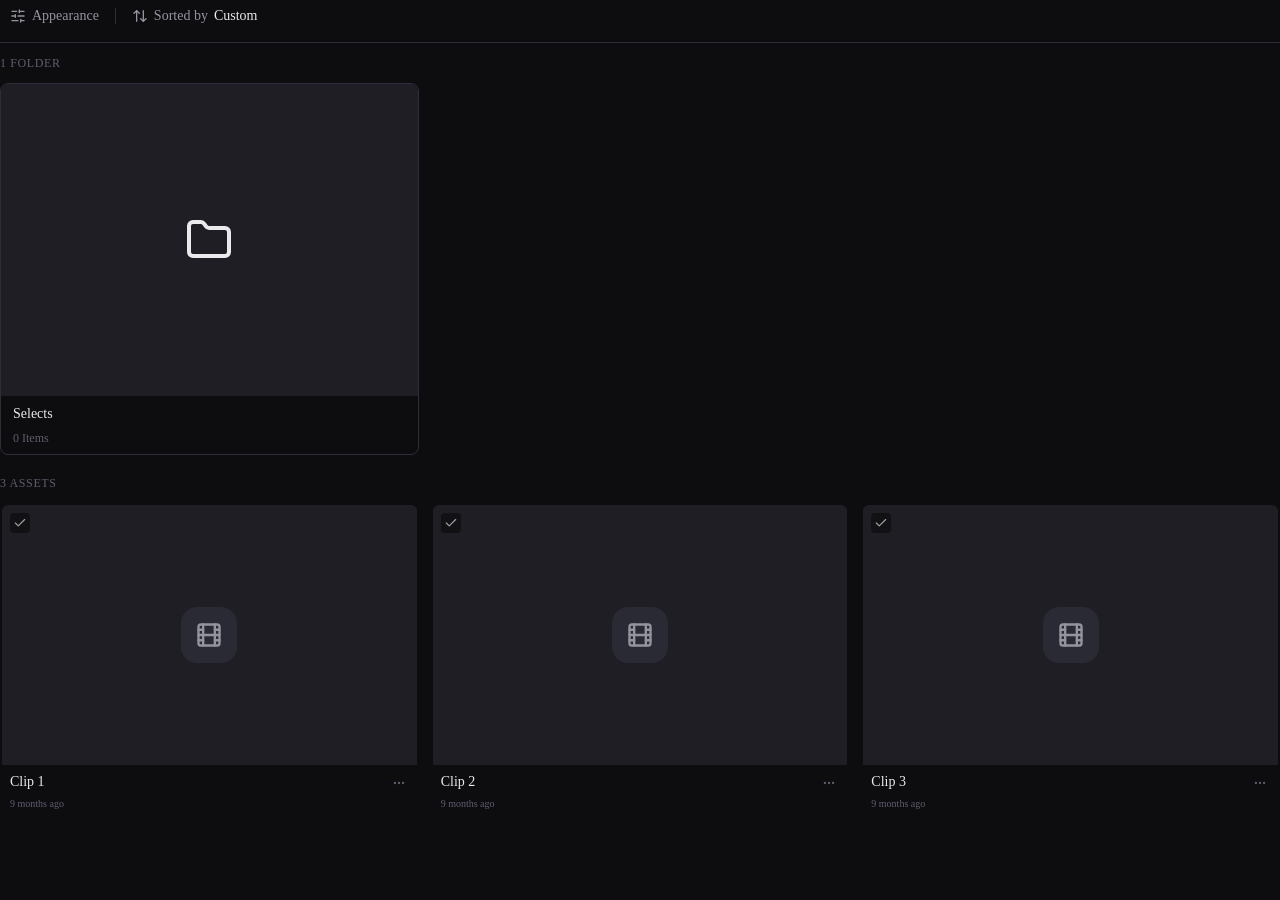
Scenario: AssetGrid right-click (grid view) › an item outside the selection gets its own menu
Click the text "Clip 1".
click(27, 781)  # box x1=10 y1=773 x2=45 y2=790
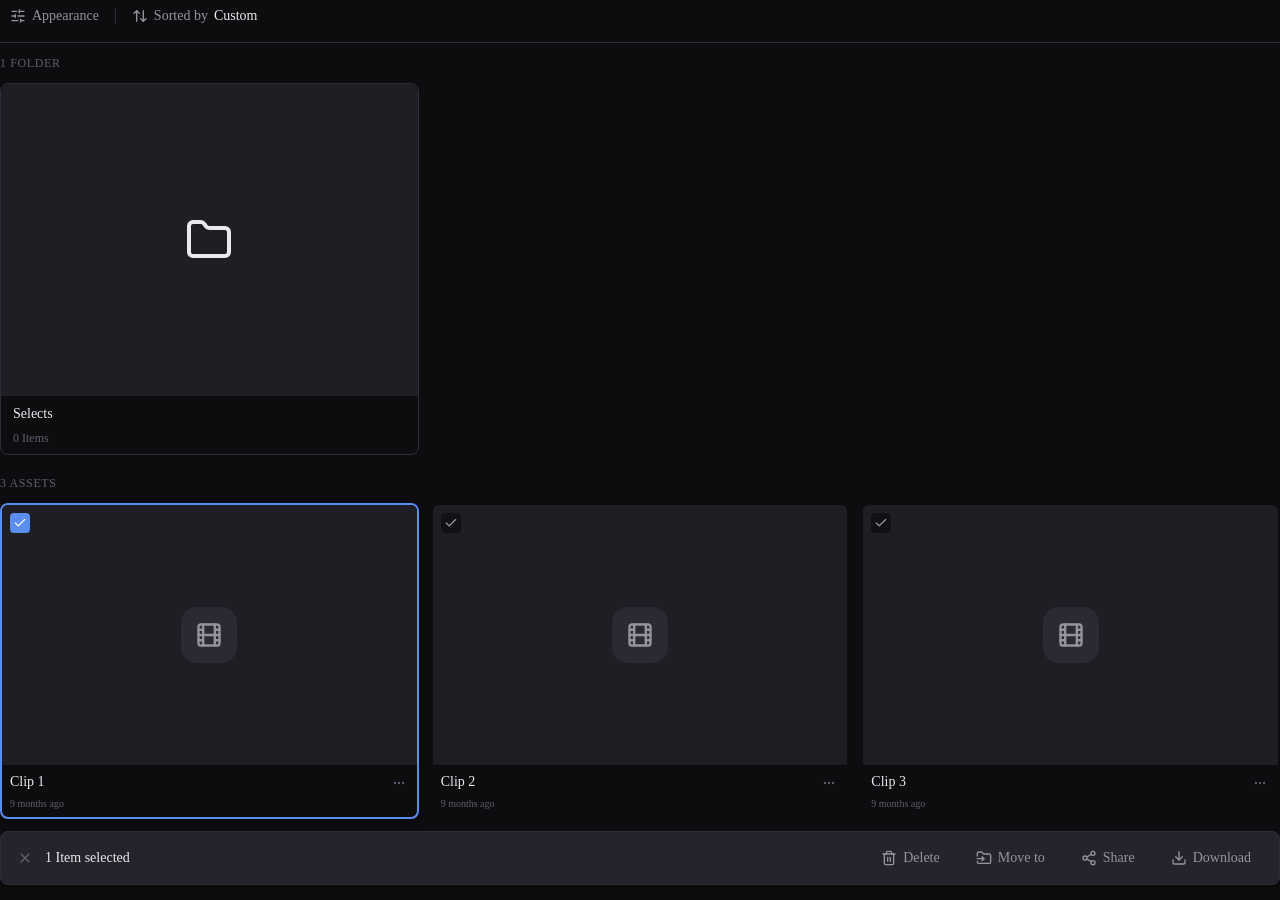
Click the text "Clip 3".
click(889, 781)  # box x1=871 y1=773 x2=906 y2=790
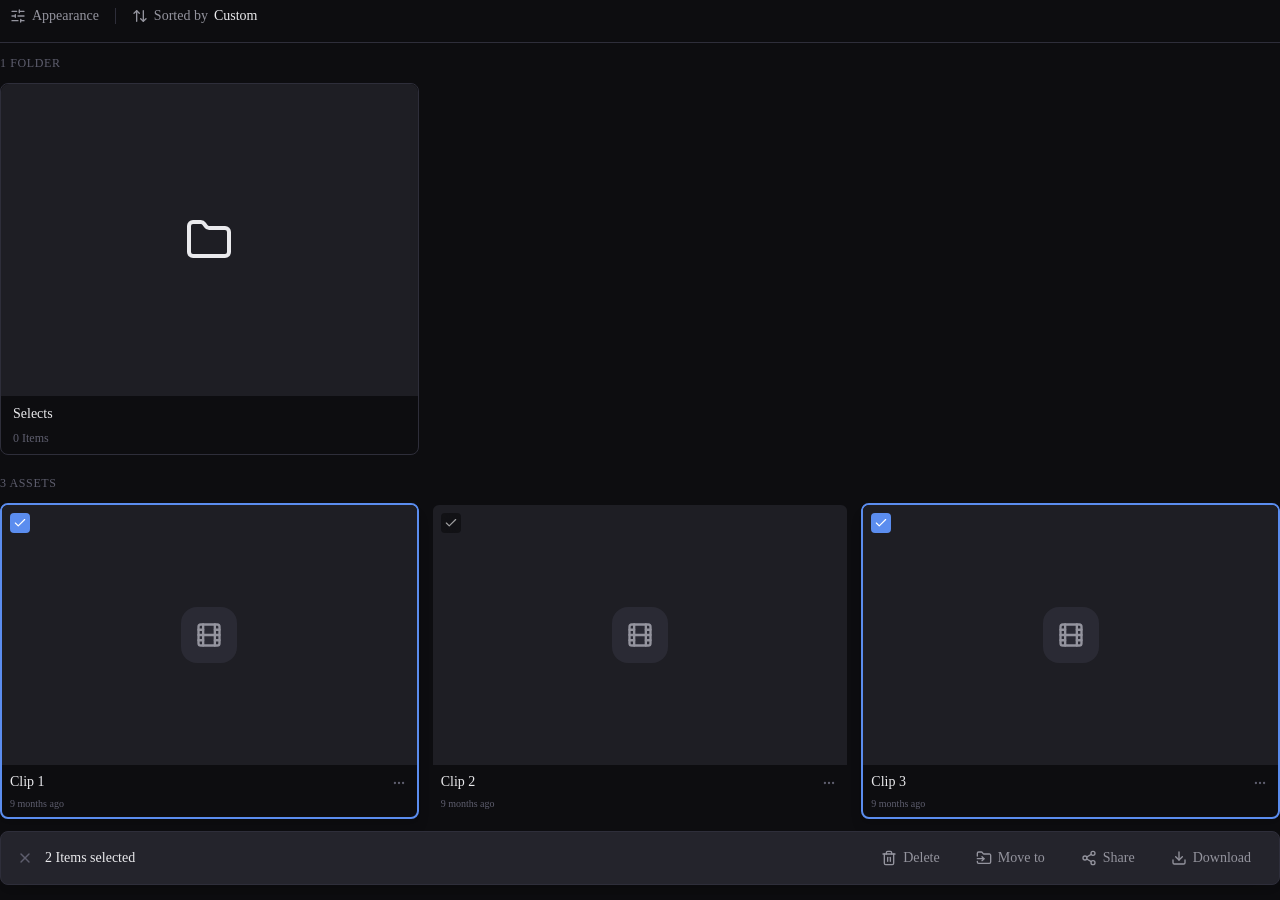
Right-click the text "Clip 2".
right_click(458, 781)  # box x1=441 y1=773 x2=475 y2=790
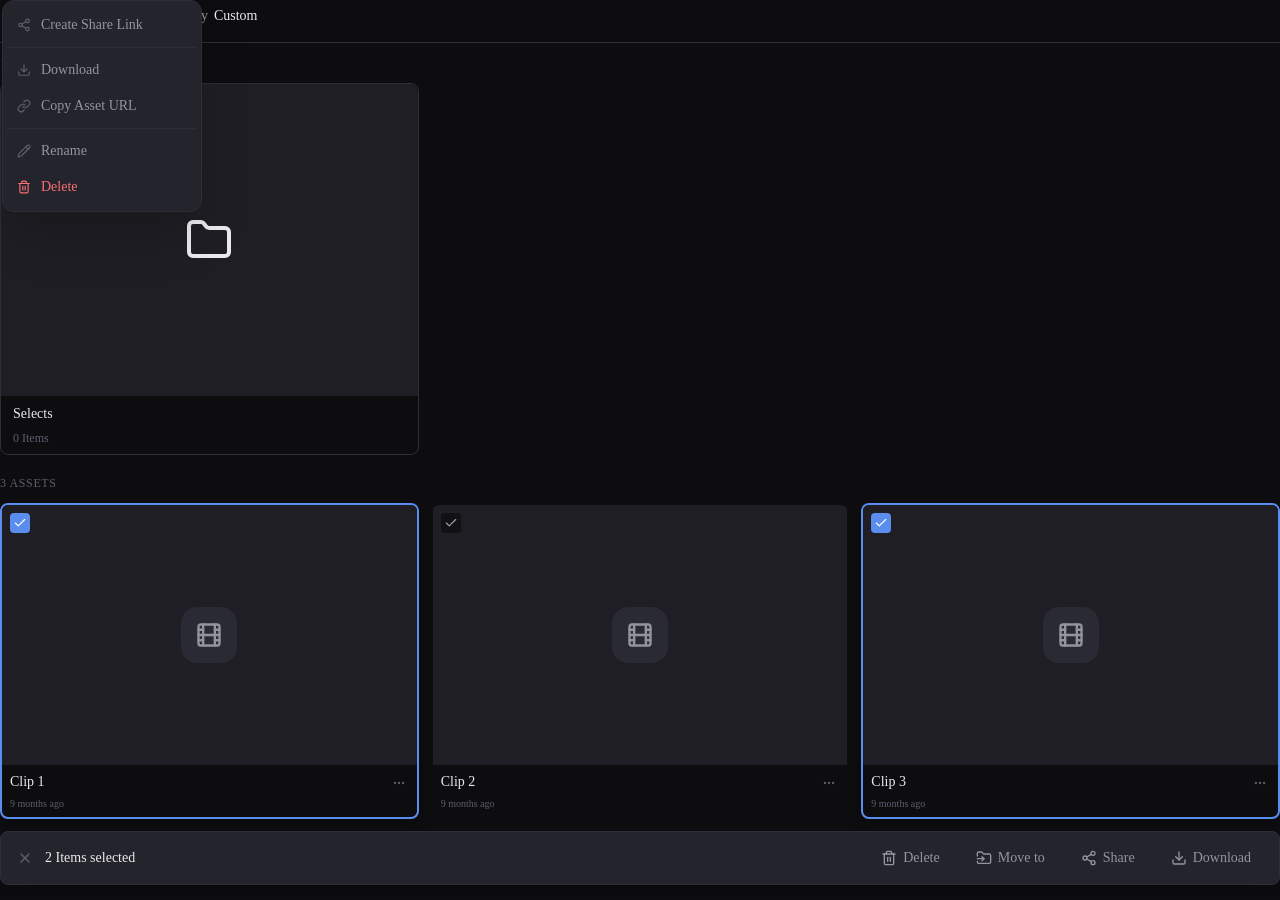
Press Escape
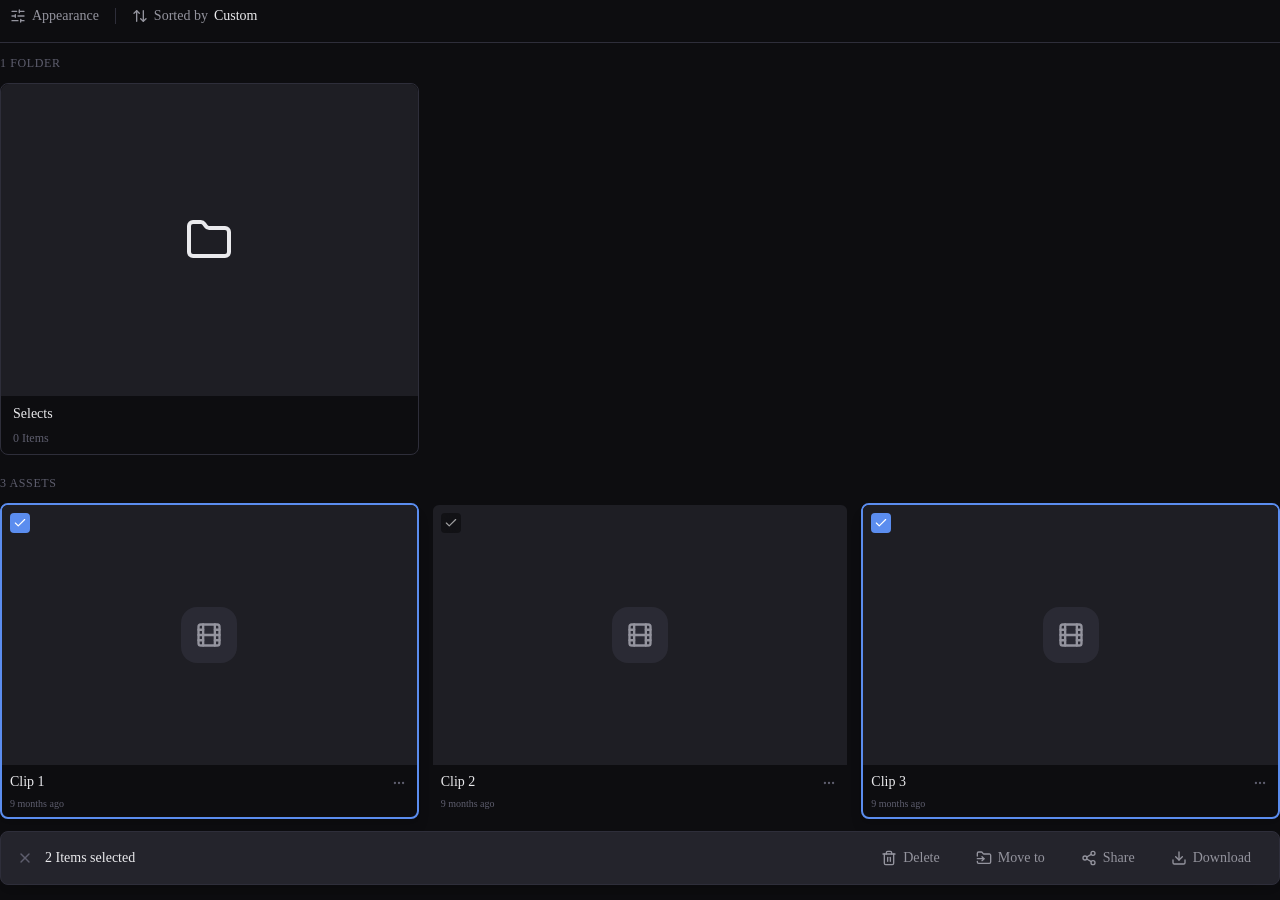
Result: the menu is gone
